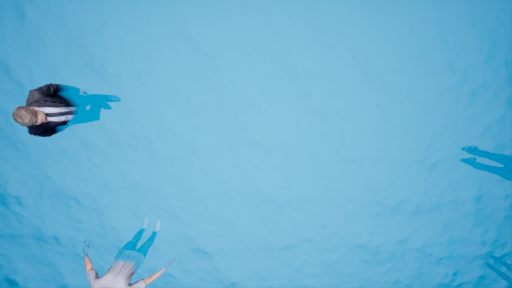person: (13, 76, 111, 143), (87, 214, 171, 288)
